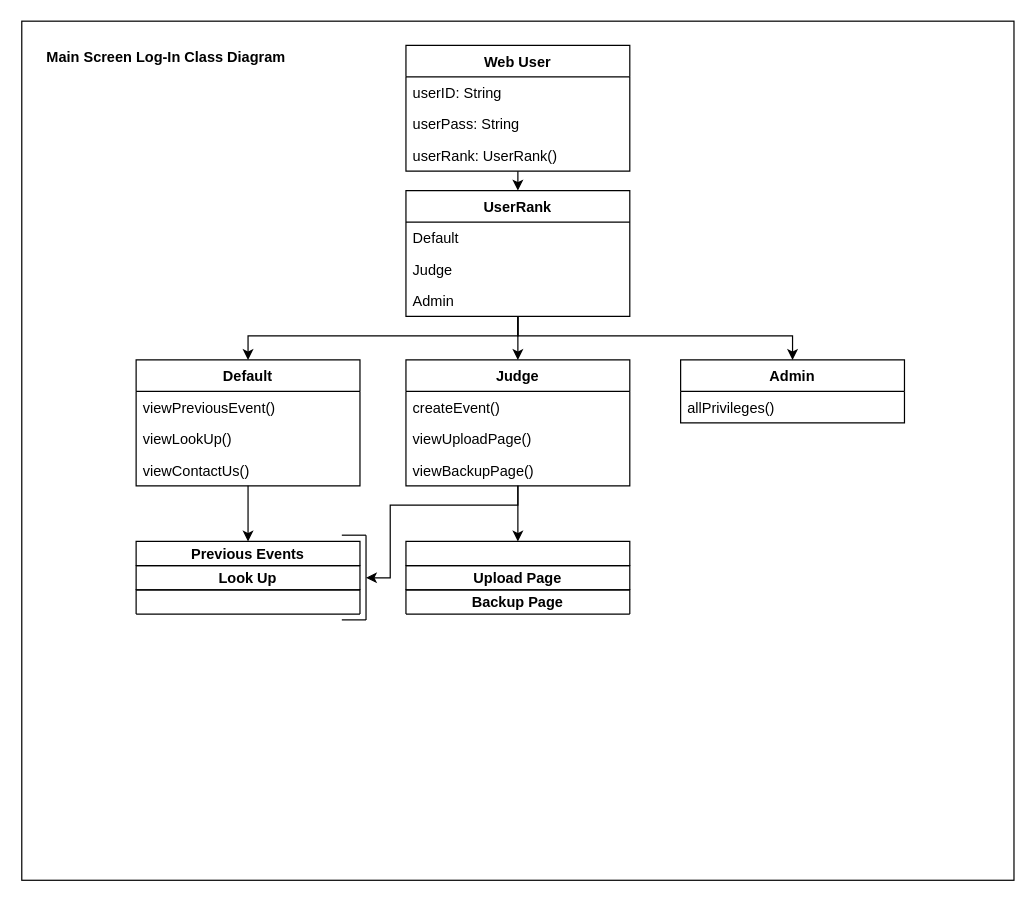
The diagram is 1035 pixels wide and 901 high, and some of its shapes have lost their labels. Each missing label, with the centre of its shape:
"Contact Us" goes at point 247,601.
"Create Event" goes at point 517,553.
